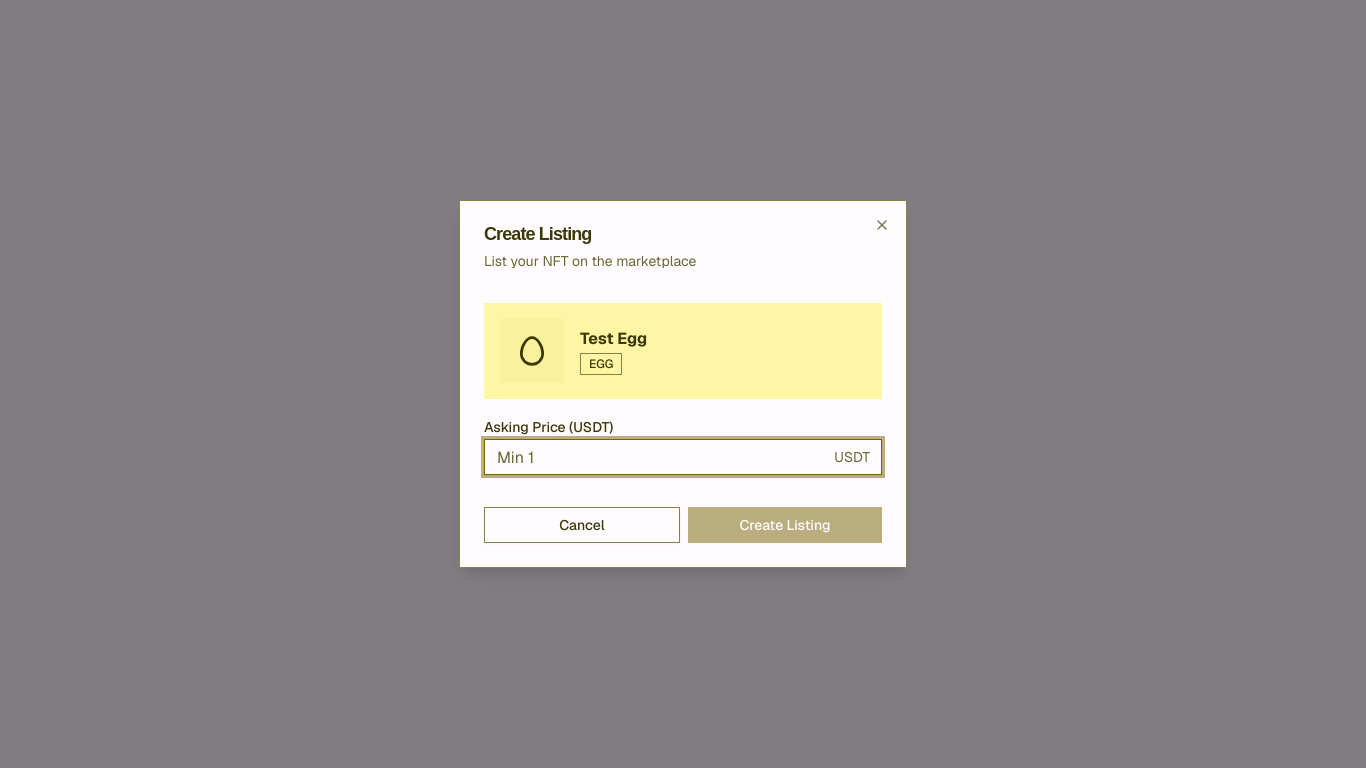
CreateListingDialog › shows loading state during listing creation
The image size is (1366, 768).
In the field with placeholder "Min 1": (683, 457) [484,439,882,475], type "100"
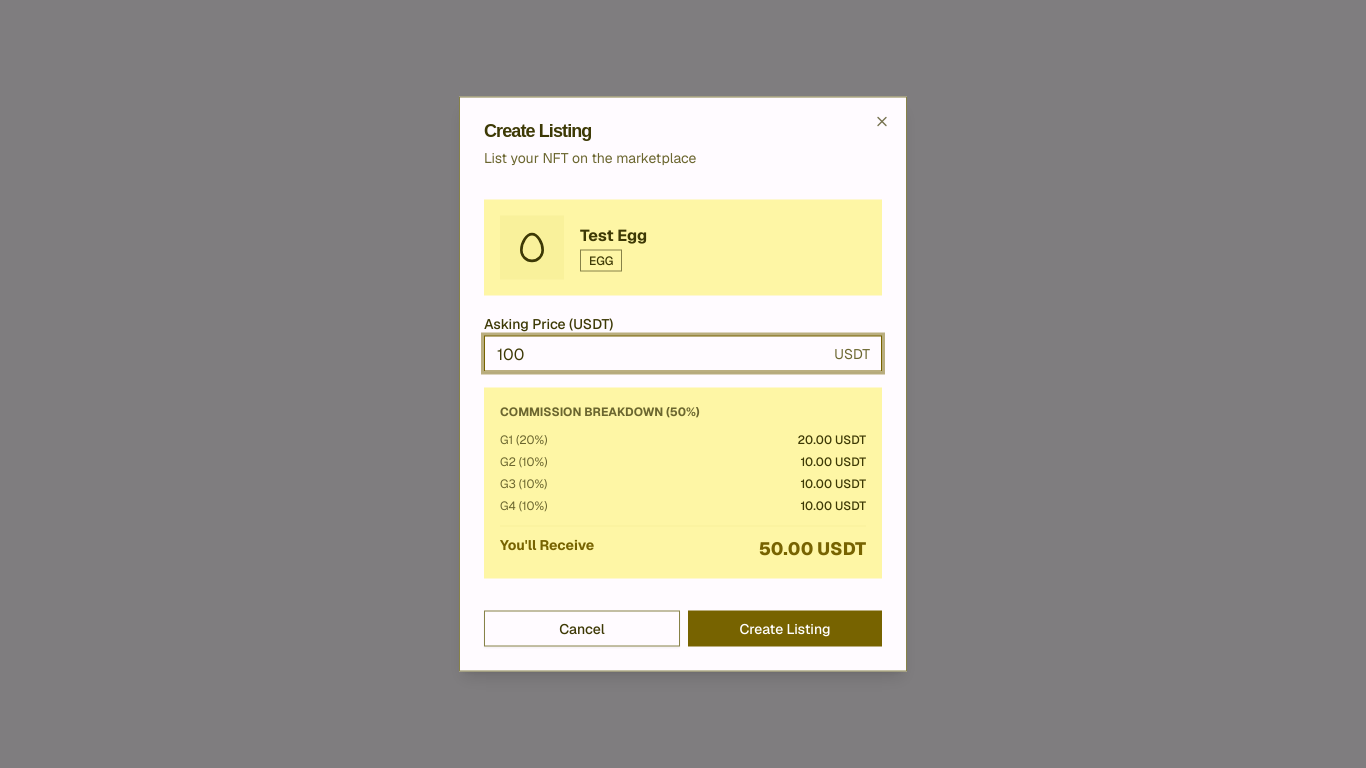
Click the button "Create Listing": (785, 628) [688,610,882,646]
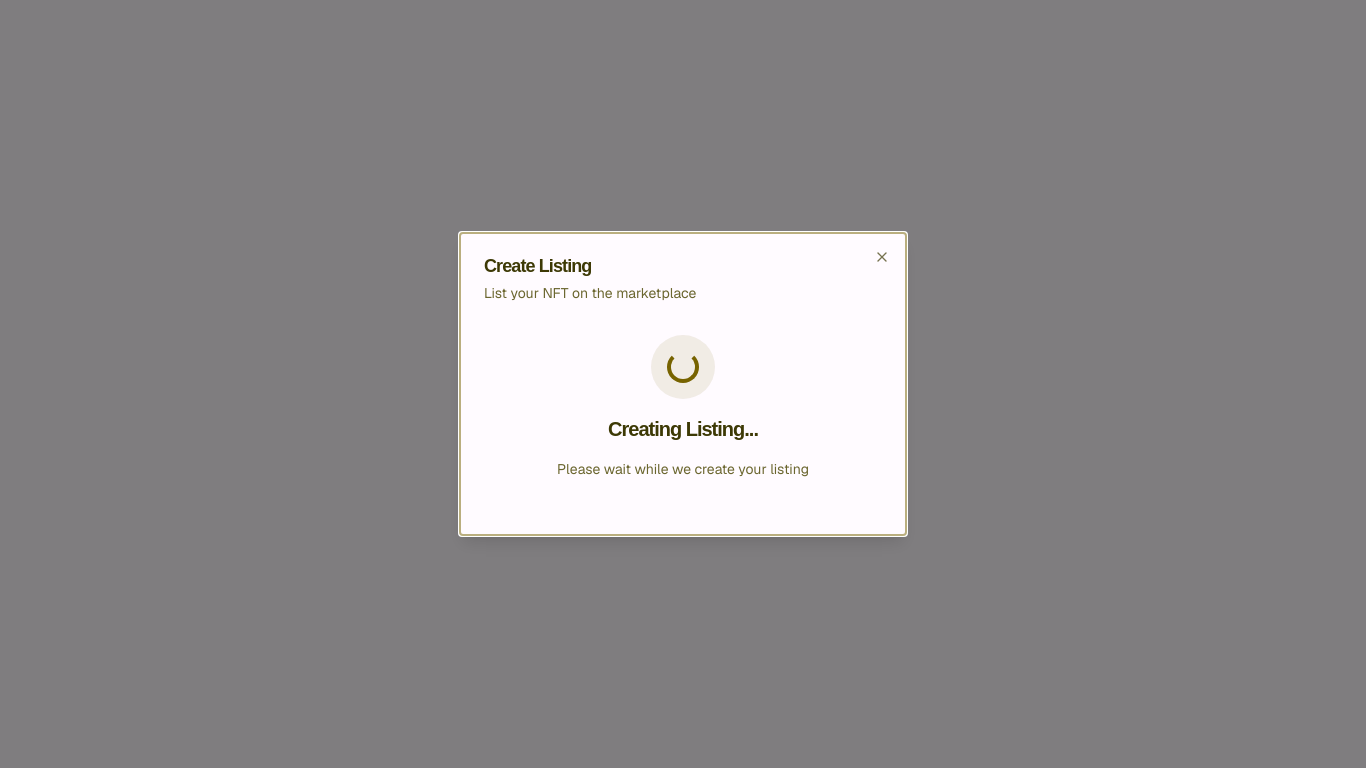
Check: the heading "Creating Listing..." is shown, box [608,418,758,440]
